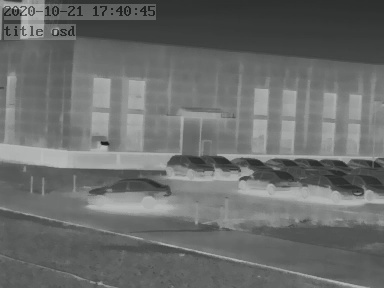vehicle: (90, 178, 170, 209), (237, 169, 302, 194), (303, 175, 364, 201), (165, 153, 211, 179), (204, 153, 242, 177), (349, 173, 382, 200), (232, 154, 271, 172), (346, 155, 381, 171), (261, 155, 296, 170), (317, 156, 348, 170), (295, 156, 325, 169)
